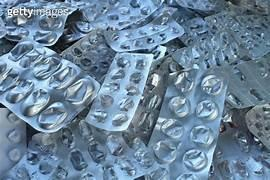pill_Strip: (0, 40, 99, 131), (149, 69, 226, 178), (4, 122, 102, 179), (86, 53, 152, 130), (209, 109, 269, 179), (105, 9, 183, 51), (5, 2, 76, 45), (130, 62, 167, 143), (61, 29, 115, 82), (172, 31, 247, 68), (221, 55, 269, 108), (0, 108, 25, 175), (245, 104, 269, 148), (176, 0, 224, 11)
